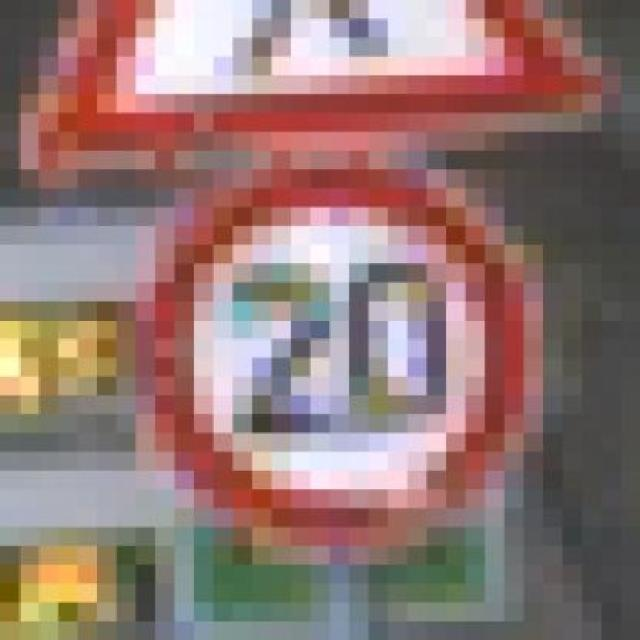forb_speed_over_20: (146, 168, 537, 546)
